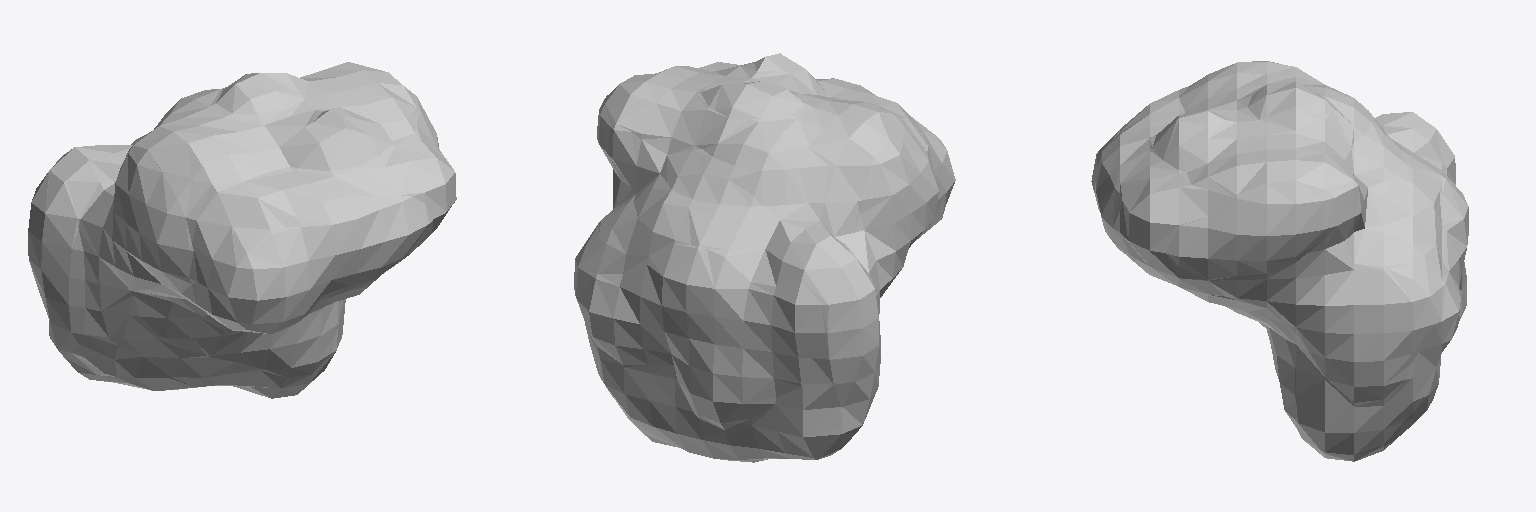
File: 3r12_cms.obj
3 renders of one model, left to right at view 1: azimuth 30°, elevation 25°; view 2: azimuth 150°, elevation 25°; view 3: azimuth 270°, elevation 25°, orthographic.
Bounding box in the file's own units: 70.68 × 72.36 × 70.86.